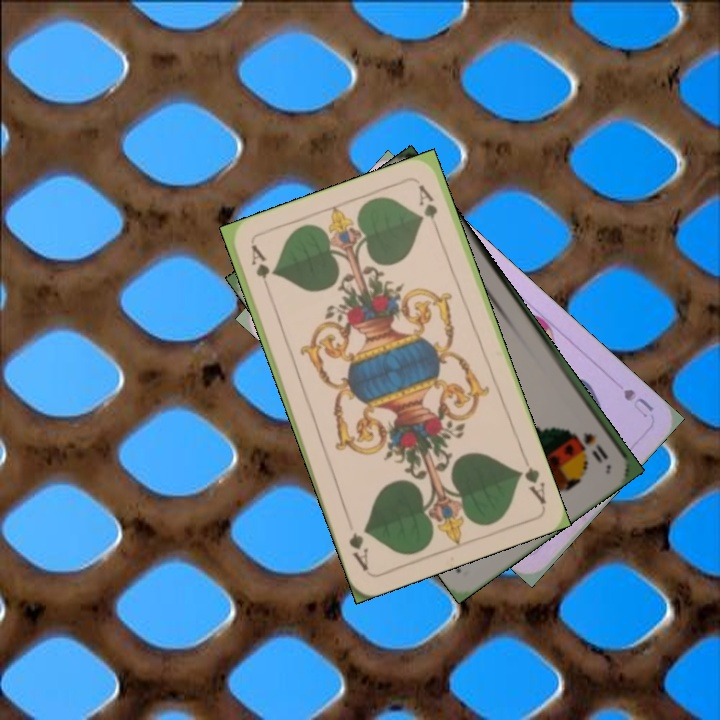GA: (513, 451, 549, 508), (247, 241, 275, 299)
SO: (578, 427, 611, 463)
SU: (619, 385, 656, 420)
